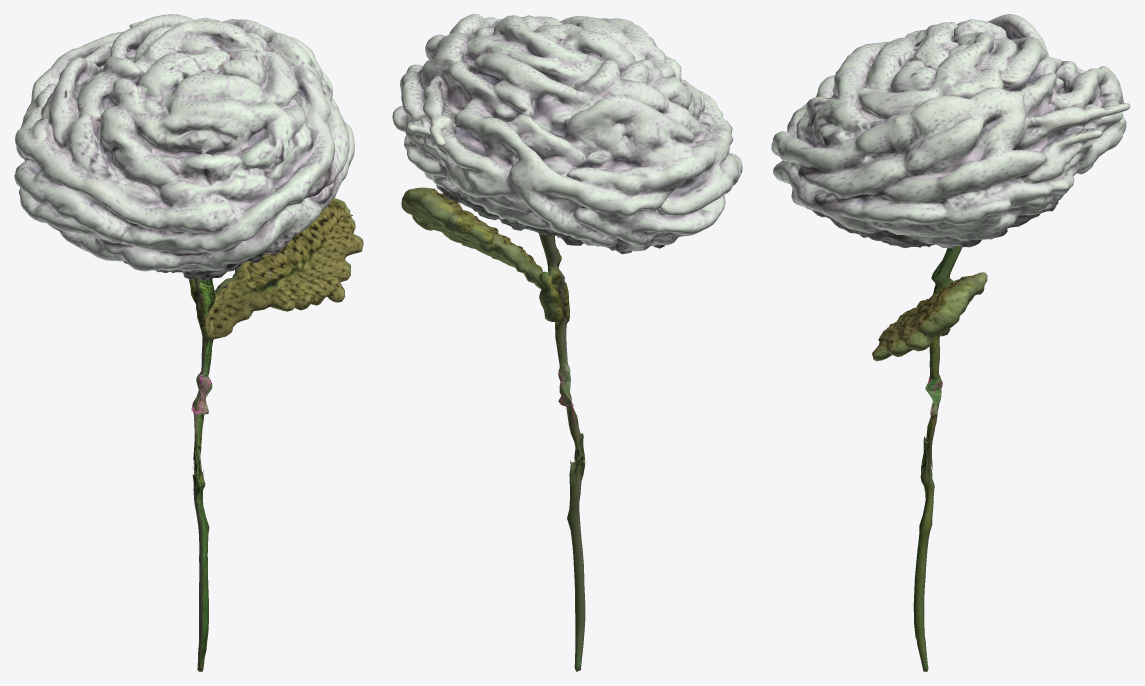
Rendered from peony_single.glb.
The picture shows the model from 3 angles, left to right: view 1: azimuth 30°, elevation 25°; view 2: azimuth 150°, elevation 25°; view 3: azimuth 270°, elevation 25°; orthographic projection. The views are drawn at different scales.
Visible parts, largest first — view 1: Rose_Petals, Rose_Stem; view 2: Rose_Petals, Rose_Stem; view 3: Rose_Petals, Rose_Stem.
Part boxes in pixels (box(x1,y1,x2,y2)): Rose_Petals: box(14, 14, 354, 372); Rose_Stem: box(189, 197, 363, 671); Rose_Petals: box(392, 14, 742, 362); Rose_Stem: box(401, 187, 585, 671); Rose_Petals: box(771, 14, 1130, 248); Rose_Stem: box(872, 246, 987, 671).
Size of the model in its own units: 1.58 by 2.99 by 1.52.
Materials: 2 (2 with a texture image).
